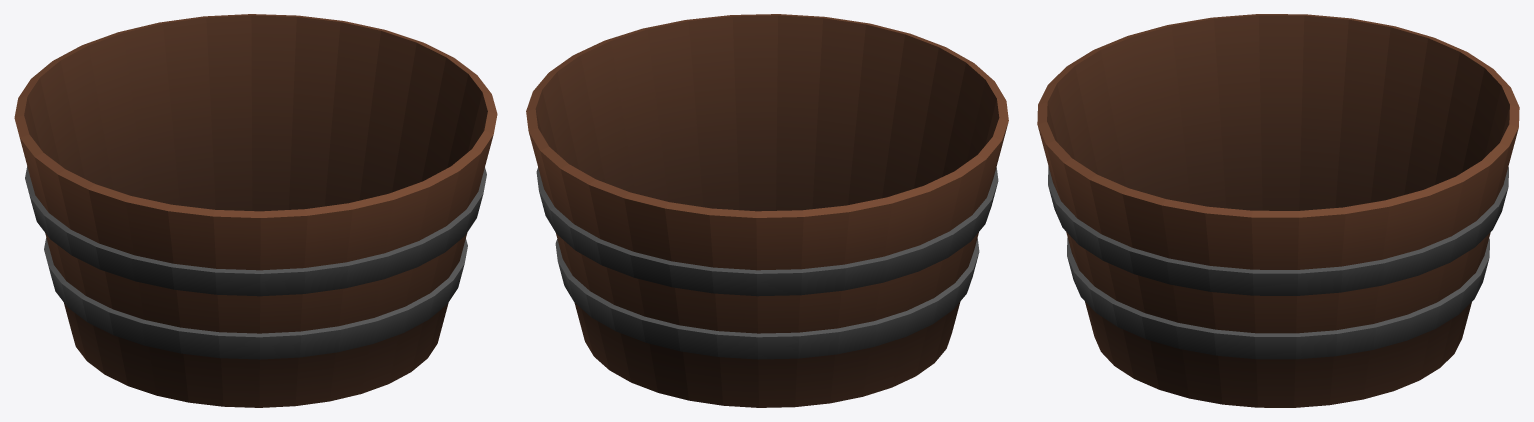
Rendered from Med Dark Wooden Bucket.fbx.
3 views of the same model, side by side, from view 1: azimuth 30°, elevation 25°; view 2: azimuth 150°, elevation 25°; view 3: azimuth 270°, elevation 25° (orthographic).
Parts seen in each view (by area): view 1: Med Dark Wooden Bucket; view 2: Med Dark Wooden Bucket; view 3: Med Dark Wooden Bucket.
Boxes of the visible parts, x1,y1,x2,y2 form: Med Dark Wooden Bucket: (14, 14, 497, 407); Med Dark Wooden Bucket: (526, 14, 1008, 407); Med Dark Wooden Bucket: (1037, 14, 1519, 407).
Size of the model in its own units: 133 by 268 by 268.
1 material, 1 textured.
